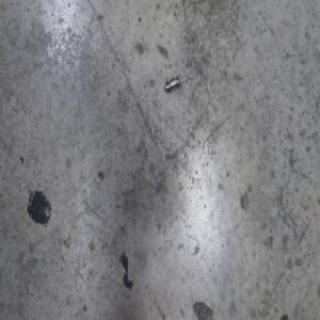Bolttrack_idkeyframe: (164, 72, 180, 92)
